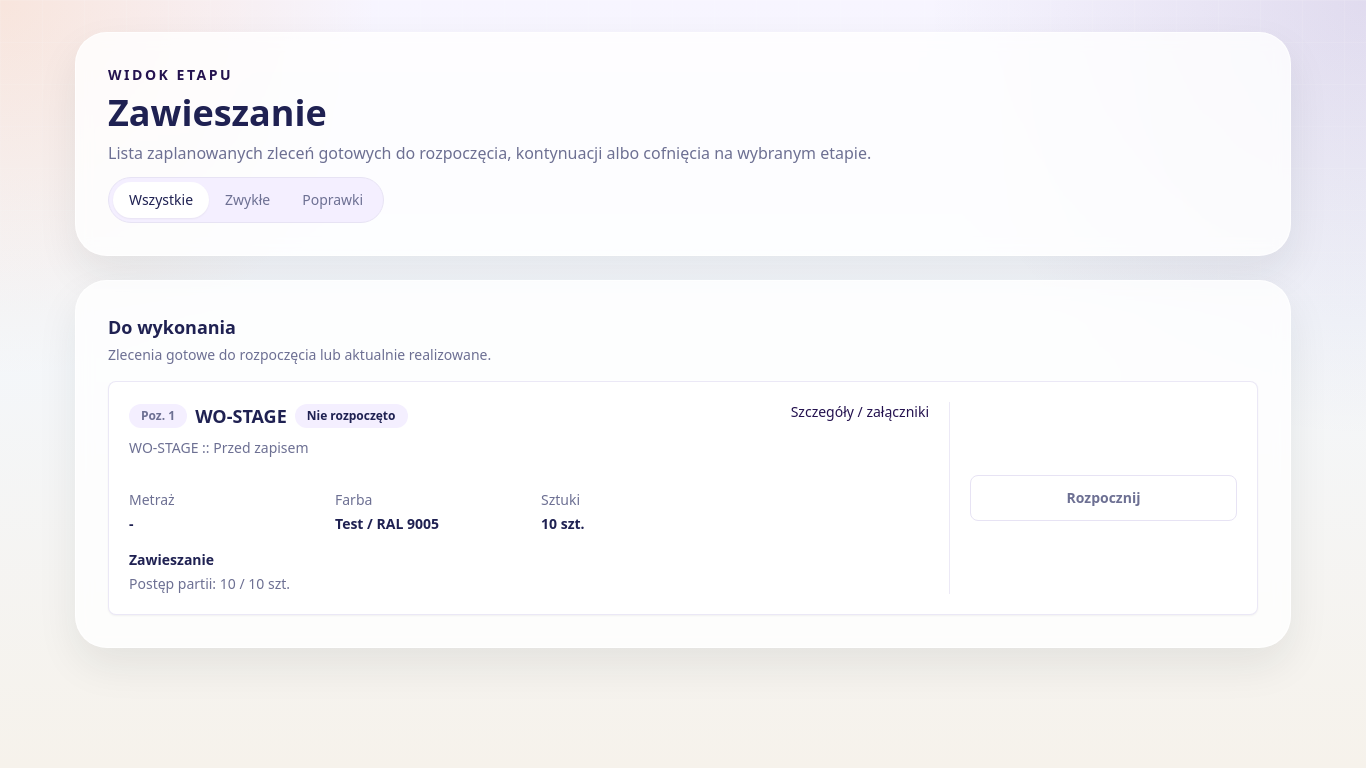
frontend state consistency › reloads stage view after action failure
Expected: the text "WO-STAGE :: Przed zapisem" is shown, [129,438,309,457]
Step 1. Click the button "Rozpocznij" → (1104, 498), box [970,475,1237,521]
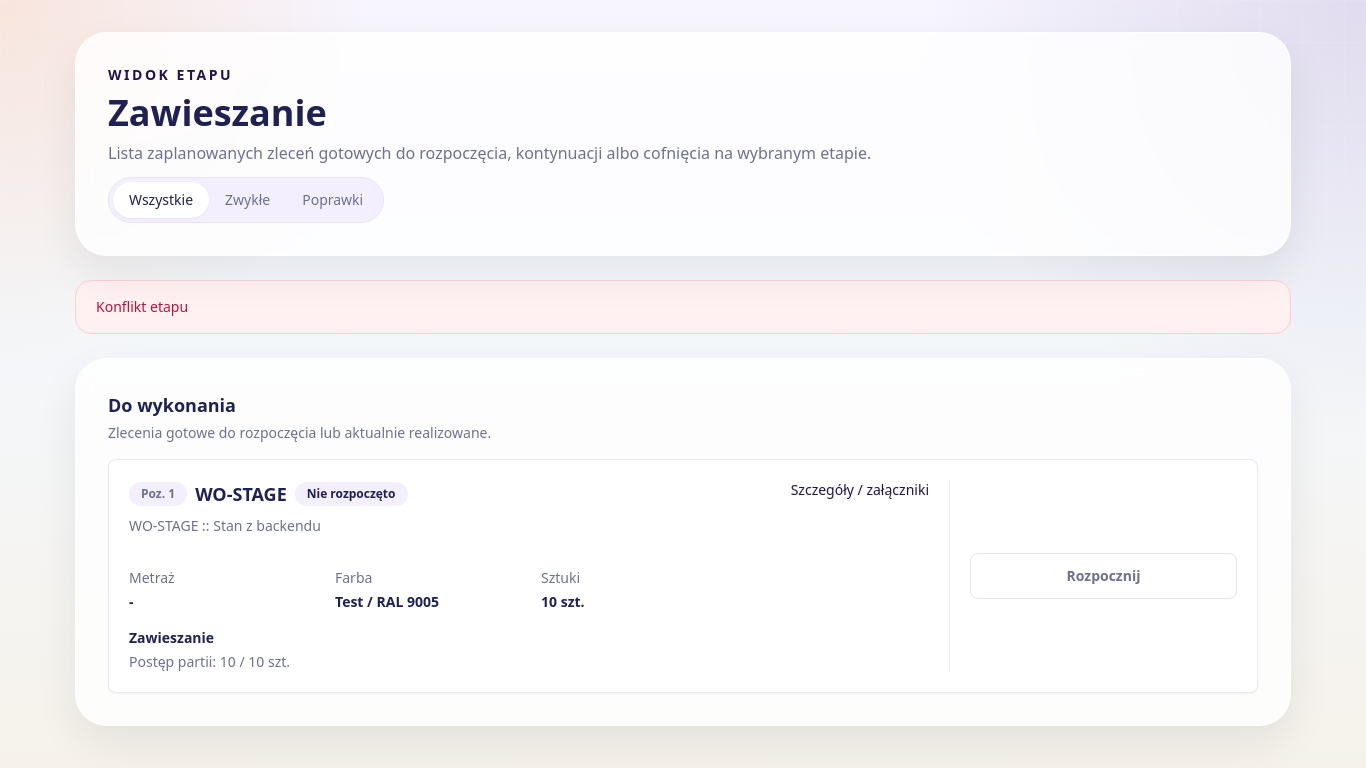
Expected: the text "Konflikt etapu" is shown, [75,280,1291,334]
Expected: the text "WO-STAGE :: Stan z backendu" is shown, [129,516,321,535]
